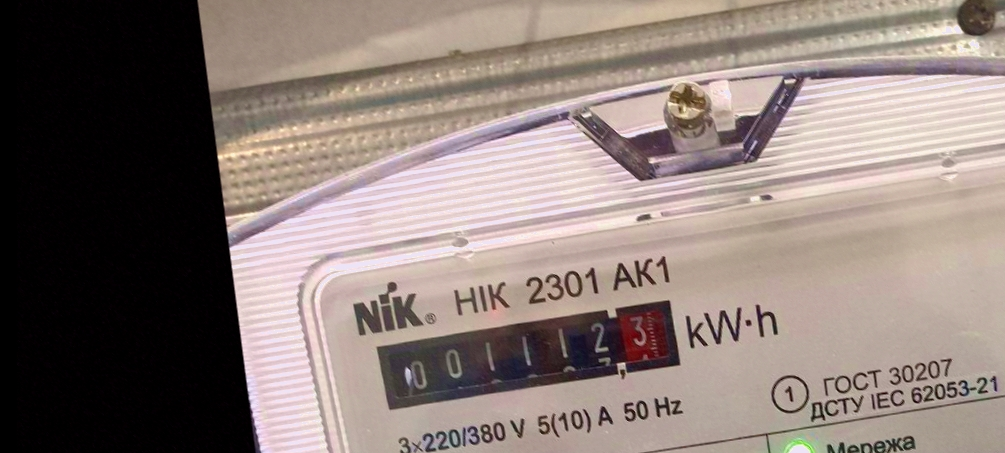0: (441, 342, 467, 382), (406, 354, 432, 391)
1: (479, 335, 502, 375), (554, 322, 573, 361), (517, 329, 535, 369)
2: (587, 317, 613, 356)
3: (627, 311, 650, 348)
screen: (369, 294, 690, 414)
